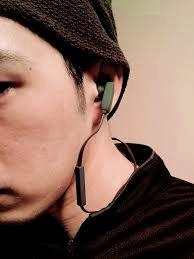earphone: (88, 50, 120, 125)
